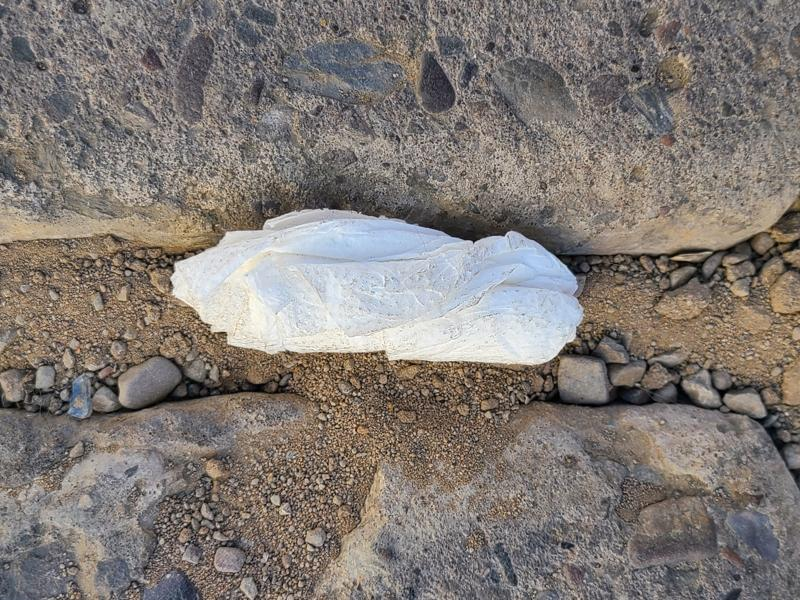papel: (171, 209, 585, 368)
